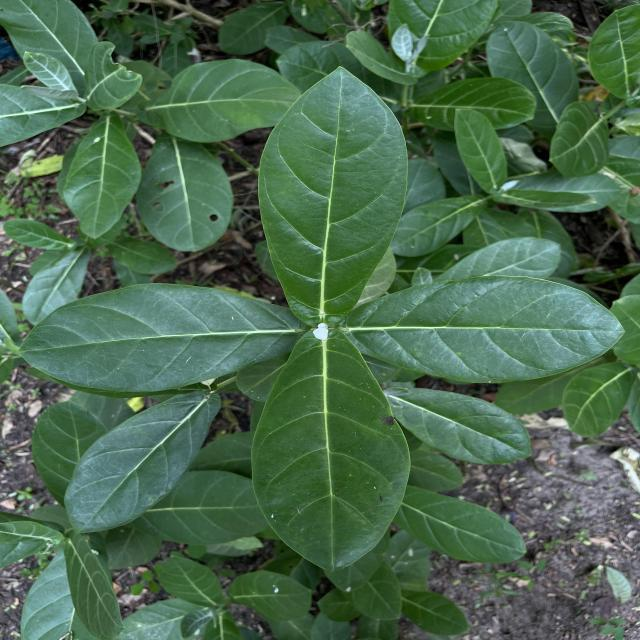Calotropis gigantea: (247, 328, 414, 576), (256, 64, 411, 329), (336, 272, 631, 384), (17, 281, 304, 393), (62, 388, 224, 536), (137, 59, 308, 144), (139, 131, 236, 253), (387, 386, 532, 466), (486, 21, 580, 138), (392, 484, 528, 564), (62, 113, 142, 240), (413, 77, 539, 133), (390, 193, 488, 258), (496, 172, 624, 214), (548, 100, 610, 180), (453, 107, 508, 195)
